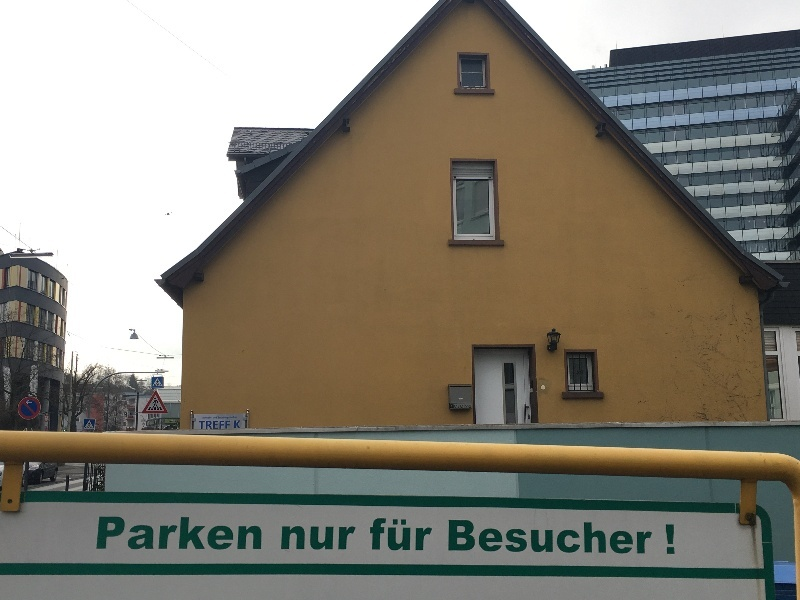text: (113, 515, 128, 553), (129, 515, 144, 553), (145, 515, 160, 553), (161, 515, 176, 553), (177, 515, 192, 553), (193, 515, 208, 553), (209, 515, 224, 553), (225, 515, 240, 553), (241, 515, 256, 553), (449, 519, 464, 556), (465, 519, 480, 556), (481, 519, 496, 556), (497, 519, 512, 556), (513, 519, 528, 556), (529, 519, 544, 556), (545, 519, 560, 556), (561, 519, 576, 556), (577, 519, 592, 556), (593, 519, 608, 556), (609, 519, 624, 556), (625, 519, 640, 556), (641, 519, 656, 556), (657, 519, 672, 556), (385, 519, 400, 554), (401, 519, 416, 554), (417, 519, 432, 554), (99, 515, 112, 553), (370, 519, 384, 554), (289, 526, 304, 552), (305, 526, 320, 552), (321, 526, 336, 552), (337, 526, 352, 552), (257, 515, 263, 553), (282, 526, 288, 552), (673, 519, 677, 556), (209, 421, 224, 430), (353, 526, 357, 552), (199, 421, 208, 430), (209, 416, 224, 419), (225, 421, 230, 430), (235, 420, 240, 429), (225, 416, 237, 419), (433, 519, 434, 554), (203, 416, 208, 419)
